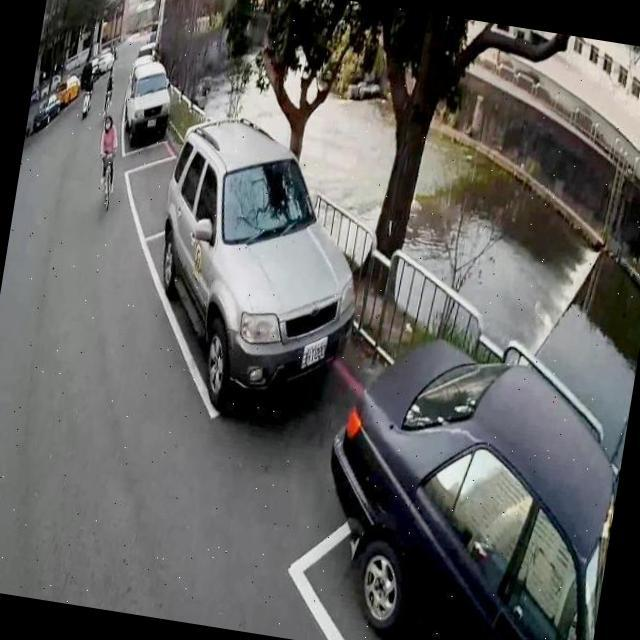person: (92, 110, 127, 196)
